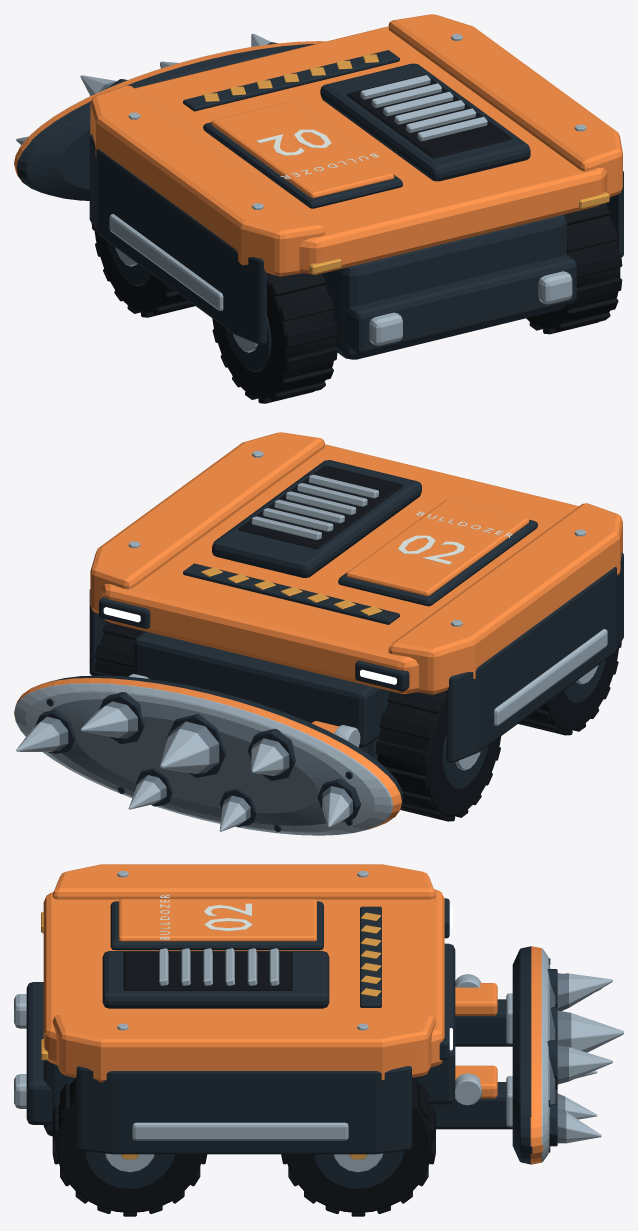
Rendered from bulldozer_v02.glb.
The picture shows the model from 3 angles, top to bottom: view 1: azimuth 30°, elevation 25°; view 2: azimuth 150°, elevation 25°; view 3: azimuth 270°, elevation 25°; orthographic projection. The views are drawn at different scales.
Visible parts, largest first — view 1: ChassisMesh, Wheel_RL_Mesh, WeaponMesh, Wheel_RR_Mesh, Wheel_FL_Mesh; view 2: ChassisMesh, WeaponMesh, Wheel_FL_Mesh, Wheel_RL_Mesh, Wheel_FR_Mesh; view 3: ChassisMesh, WeaponMesh, Wheel_RR_Mesh, Wheel_FR_Mesh.
Boxes of the visible parts, box(x1,y1,x2,y2) form: ChassisMesh: box(89, 14, 623, 359); Wheel_RL_Mesh: box(212, 273, 337, 403); WeaponMesh: box(14, 33, 325, 200); Wheel_RR_Mesh: box(526, 203, 622, 334); Wheel_FL_Mesh: box(91, 223, 194, 317); ChassisMesh: box(89, 432, 623, 762); WeaponMesh: box(14, 673, 403, 835); Wheel_FL_Mesh: box(375, 691, 501, 821); Wheel_RL_Mesh: box(518, 641, 621, 735); Wheel_FR_Mesh: box(92, 621, 144, 676); ChassisMesh: box(14, 864, 455, 1154); WeaponMesh: box(429, 946, 623, 1164); Wheel_RR_Mesh: box(52, 1078, 207, 1216); Wheel_FR_Mesh: box(281, 1077, 435, 1216).
Bounding box in the file's own units: 1.66 × 0.8367 × 2.31.
